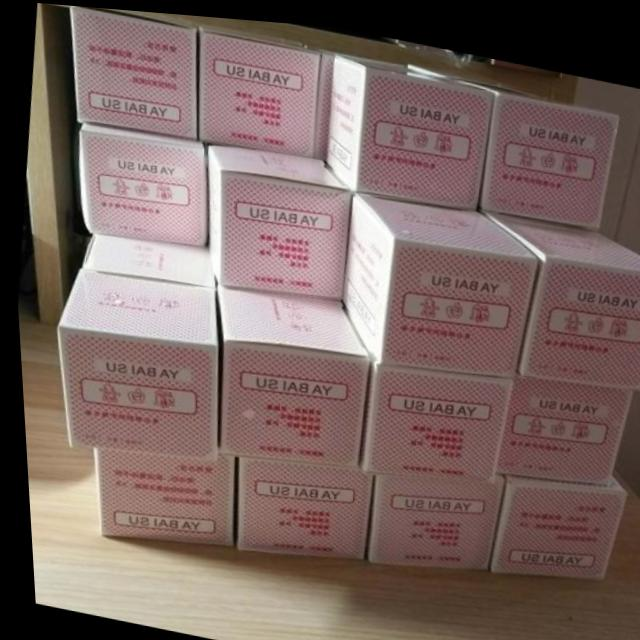box: (338, 187, 535, 369), (406, 56, 619, 220), (52, 269, 214, 455), (478, 203, 640, 380), (213, 281, 368, 461), (322, 46, 491, 204), (202, 141, 351, 295), (355, 357, 510, 477), (195, 20, 320, 152), (73, 5, 197, 137), (493, 365, 631, 478), (78, 120, 204, 242), (482, 465, 620, 569), (231, 453, 367, 555), (88, 447, 234, 542), (360, 465, 500, 560), (77, 231, 211, 285), (312, 41, 337, 156)
